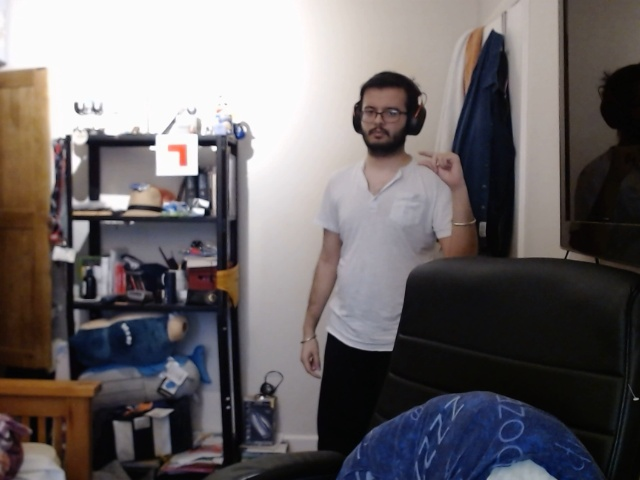Small: (411, 144, 470, 189)
